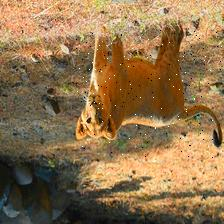Lion: (75, 30, 222, 159)
